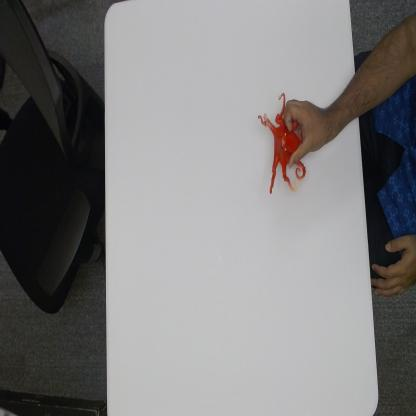Hand: (282, 93, 338, 168)
Octopus: (256, 90, 308, 198)
